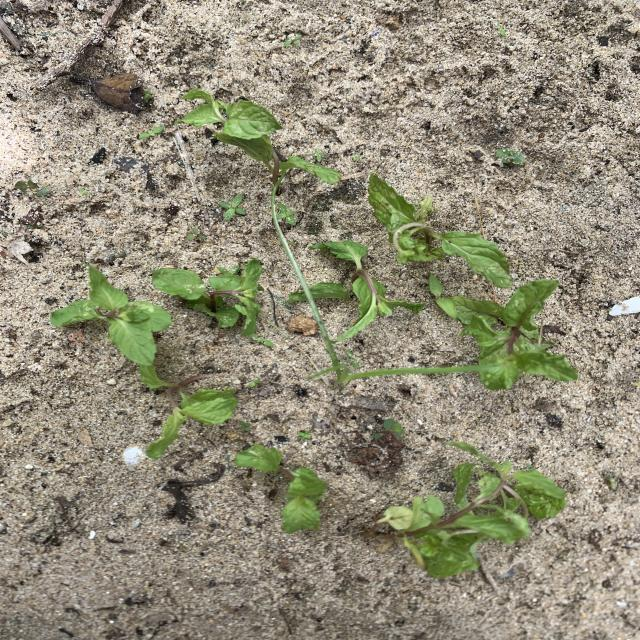crop: (377, 443, 564, 575), (369, 173, 510, 287), (177, 91, 337, 183), (453, 279, 576, 389), (51, 266, 169, 364), (308, 241, 423, 338), (142, 365, 236, 456), (152, 259, 262, 336), (237, 445, 326, 531)
weed: (280, 240, 476, 383), (429, 276, 457, 318), (375, 419, 403, 439), (220, 195, 243, 219), (15, 181, 50, 195), (496, 149, 525, 163), (249, 334, 274, 348), (277, 205, 295, 224), (344, 350, 360, 369), (140, 126, 163, 139), (187, 228, 207, 241), (284, 34, 300, 46), (496, 24, 506, 37), (239, 421, 251, 431), (311, 149, 323, 159), (605, 476, 615, 487), (298, 431, 310, 439), (143, 89, 152, 99), (249, 380, 259, 387)
